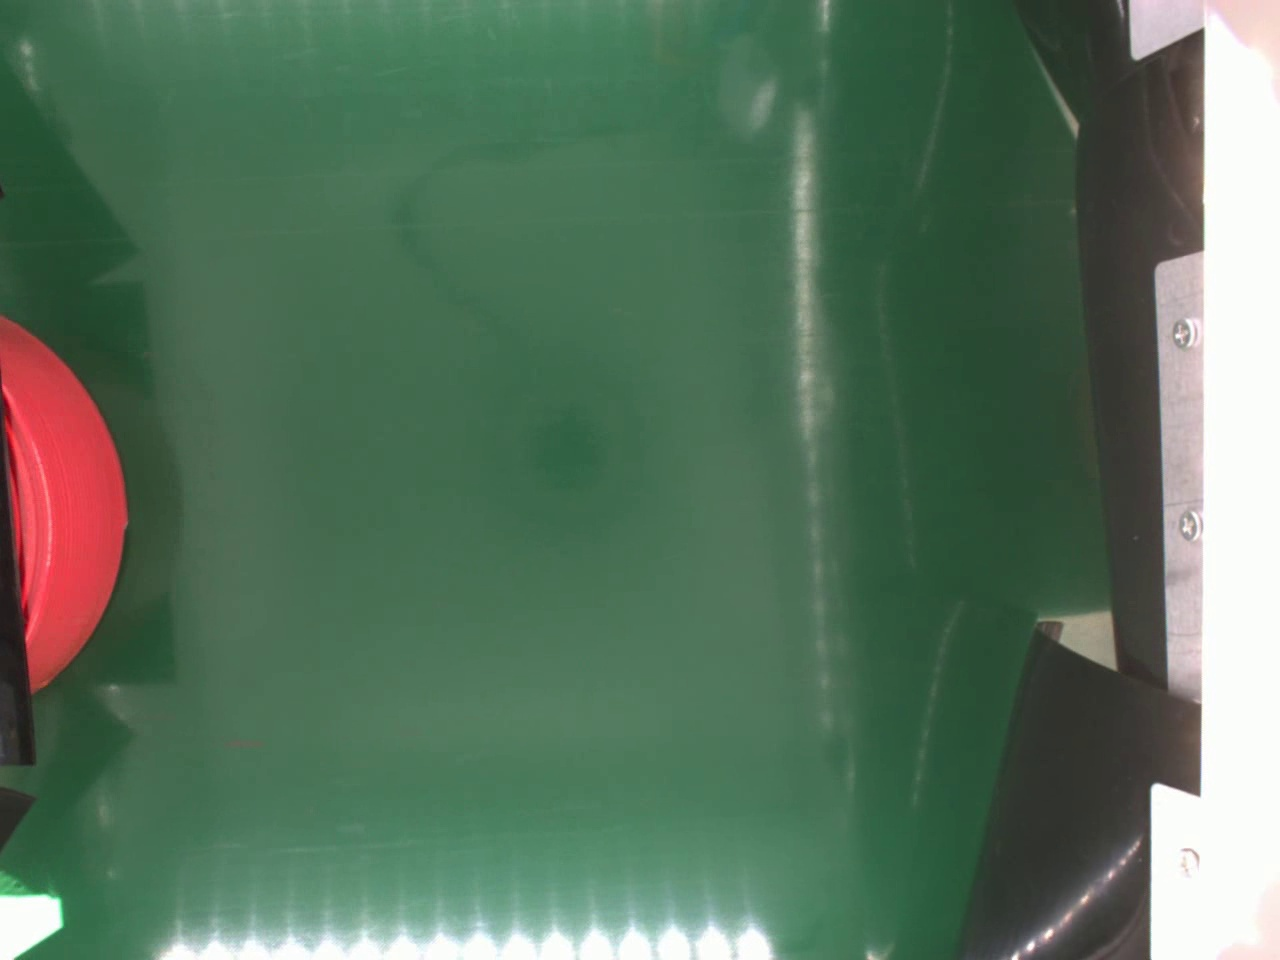red: (0, 312, 129, 693)
